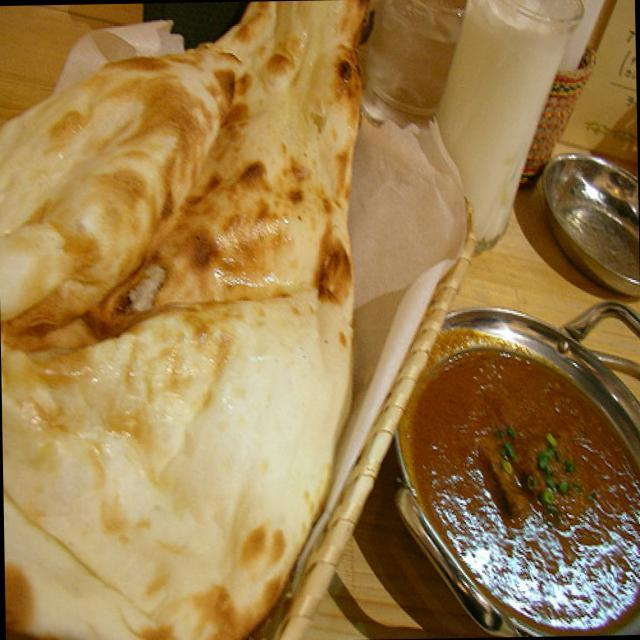Beef Curry: (418, 335, 637, 627)
